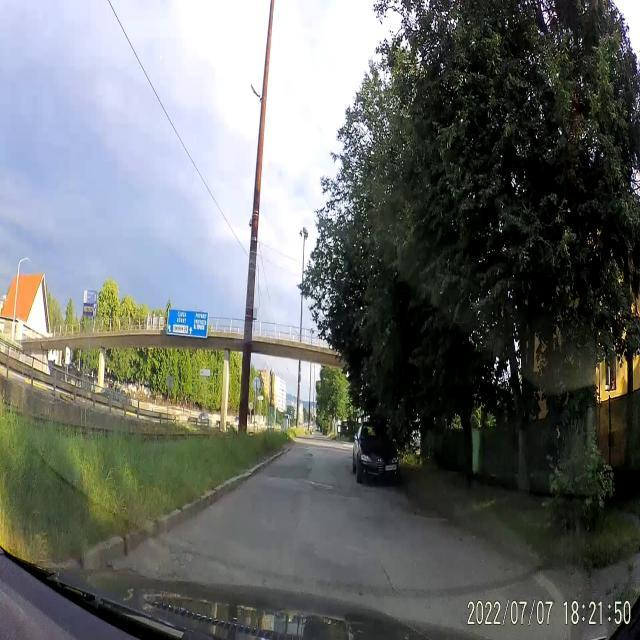Pothole: (311, 470, 338, 498)
